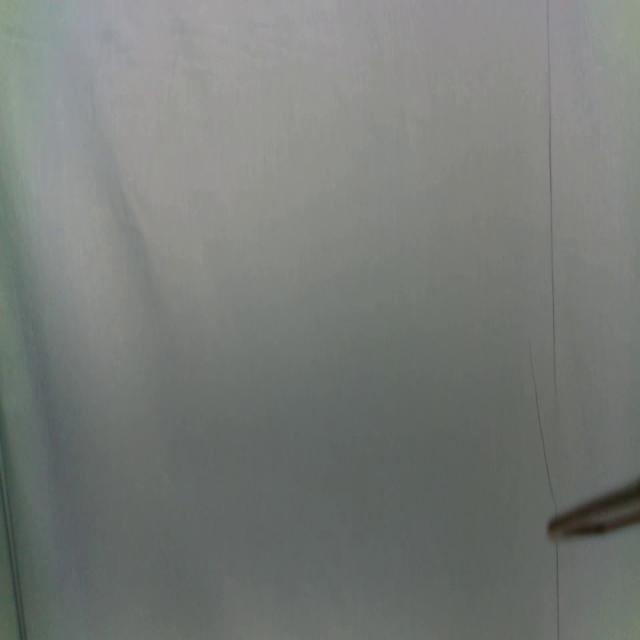crease: (544, 0, 560, 400), (0, 449, 26, 640), (529, 338, 551, 501), (551, 540, 563, 640)
